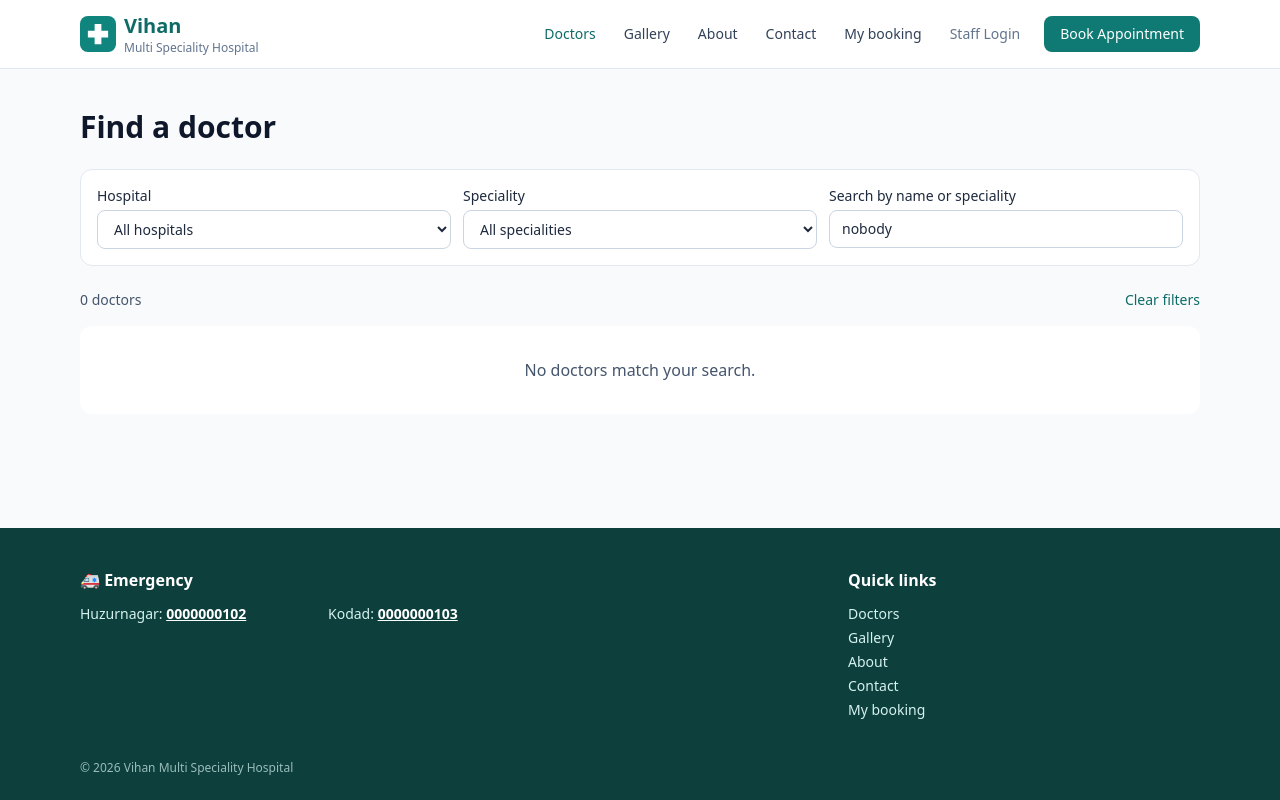
Test case: DoctorsPage › shows an empty state with a way to clear filters
Check: the text "No doctors match your search." is shown, box [80,326,1200,414]
Click the button "Clear filters". click: point(1162, 300)
box: [1125,290,1200,310]
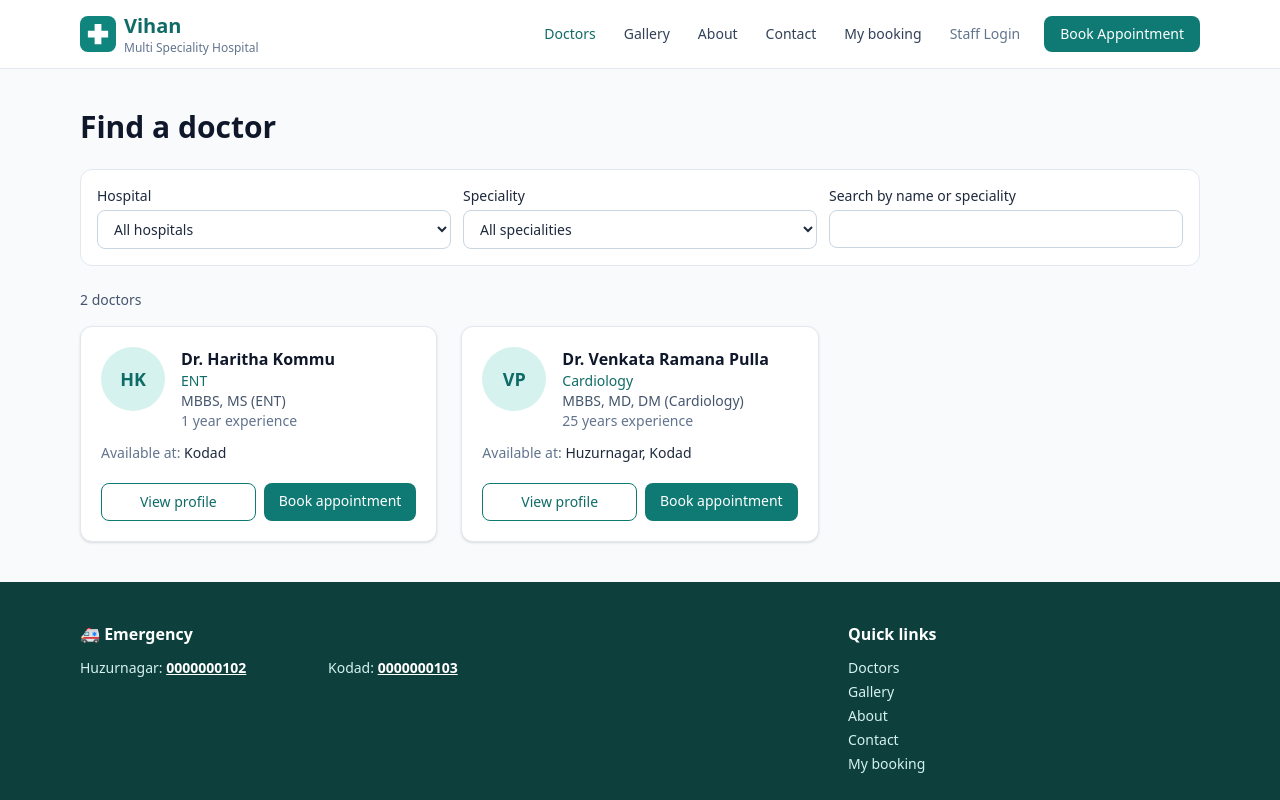
Check: the text "2 doctors" is shown, box [80,290,142,310]
